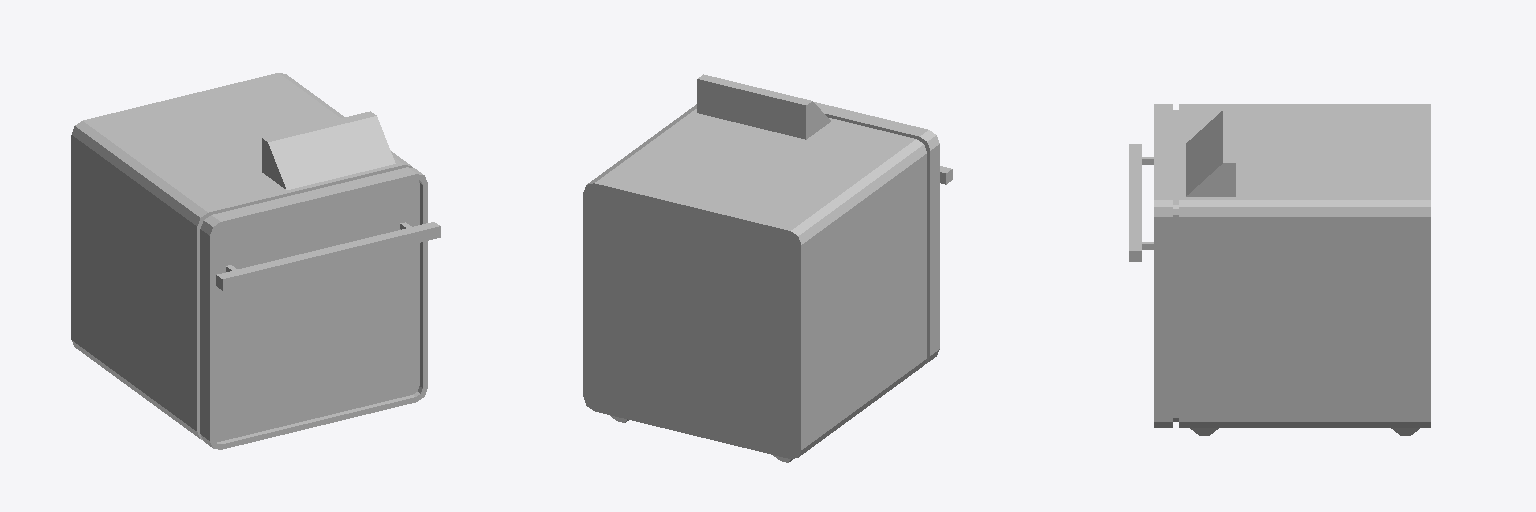
Rendered from BreadOven.obj.
3 views of the same model, side by side, from view 1: azimuth 30°, elevation 25°; view 2: azimuth 150°, elevation 25°; view 3: azimuth 270°, elevation 25° (orthographic).
Visible parts, largest first — view 1: BreadOven, Door; view 2: BreadOven, Door; view 3: BreadOven, Door.
Boxes of the visible parts, <box> form: BreadOven: <box>71,73,412,439</box>; Door: <box>200,167,440,449</box>; BreadOven: <box>583,74,926,462</box>; Door: <box>814,102,952,363</box>; BreadOven: <box>1179,104,1430,435</box>; Door: <box>1129,104,1178,427</box>.
Size of the model in its own units: 200 by 242 by 240.